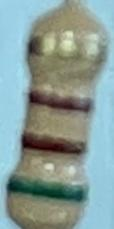Brown: (21, 131, 86, 155), (29, 91, 93, 113)
Green: (8, 175, 86, 201)
Side-Gold: (28, 36, 108, 65)
